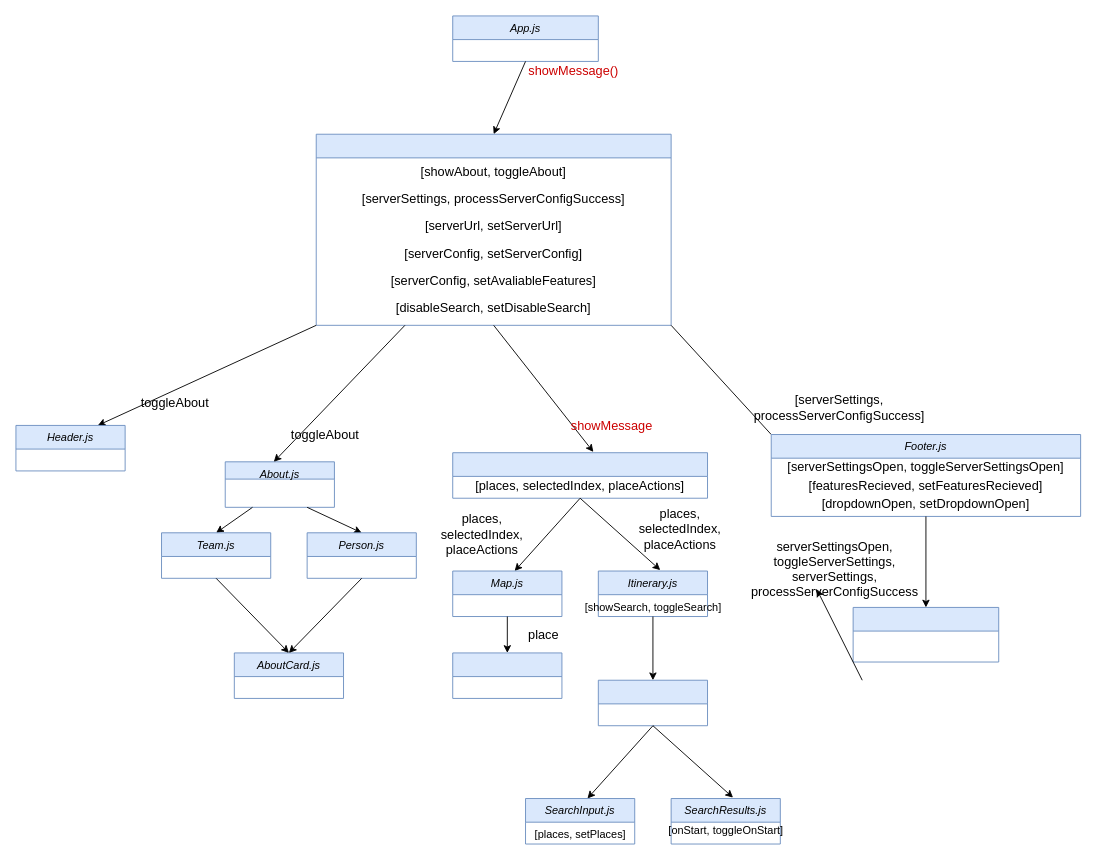
The diagram is 1097 pixels wide and 860 high, and some of its shapes have lost their labels. The shapes that lost their labels are listed below. From the top down, each one's box as (x1, y1, x2, y2) in pixels, then its label:
(315, 133, 671, 325): Page.js
(452, 452, 708, 498): Planner.js
(852, 607, 999, 662): ServerSettings.js
(452, 652, 562, 698): Marker.js
(597, 679, 708, 726): search.js
